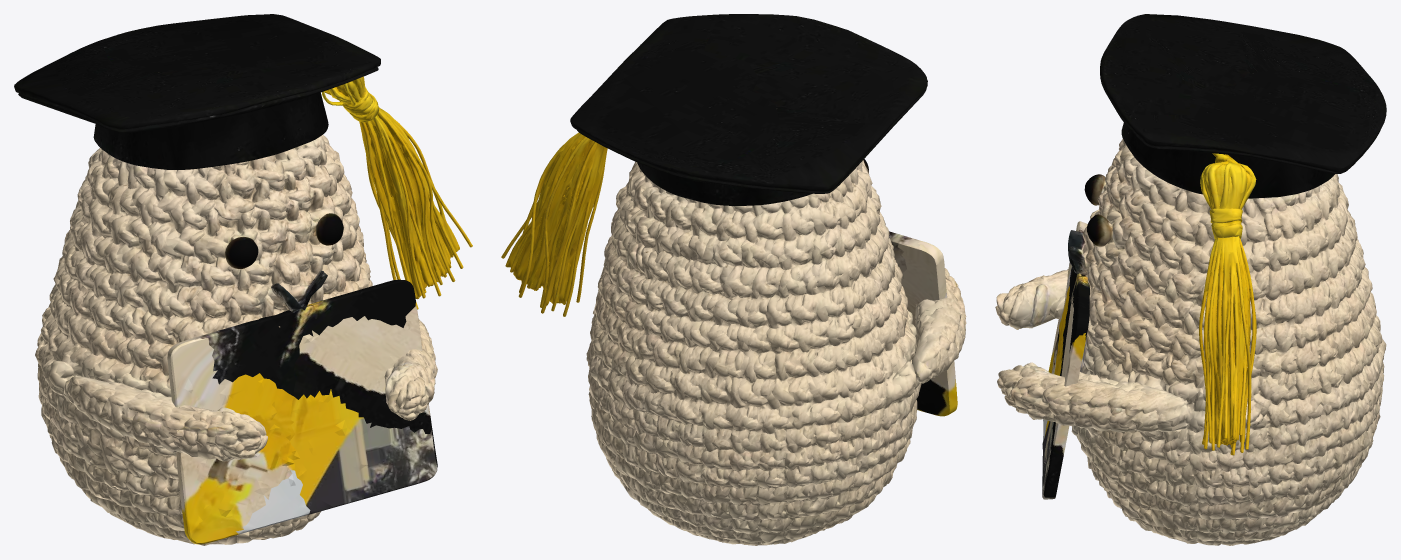
Rendered from grad.glb.
The picture shows the model from 3 angles, left to right: view 1: azimuth 30°, elevation 25°; view 2: azimuth 150°, elevation 25°; view 3: azimuth 270°, elevation 25°; orthographic projection. The views are drawn at different scales.
Parts seen in each view (by area): view 1: body, trim (×2), card, handL, handR, eyeL, eyeR; view 2: body, trim (×2), card, handL; view 3: body, trim (×2), handR, card, handL, eyeR, eyeL.
Part boxes in pixels (x1,y1,x2,y2): body: [35, 135, 372, 545]; trim (×2): [14, 14, 472, 309]; card: [167, 279, 437, 544]; handL: [64, 375, 267, 461]; handR: [384, 319, 437, 420]; eyeL: [225, 237, 258, 268]; eyeR: [310, 213, 343, 245]; body: [586, 160, 921, 545]; trim (×2): [501, 14, 927, 316]; card: [889, 231, 957, 416]; handL: [912, 268, 966, 383]; body: [1068, 139, 1386, 545]; trim (×2): [1100, 14, 1386, 455]; handR: [997, 362, 1190, 432]; card: [1042, 221, 1089, 499]; handL: [995, 269, 1068, 329]; eyeR: [1087, 214, 1113, 246]; eyeL: [1084, 174, 1105, 205].
Size of the model in its own units: 1.79 by 1.89 by 1.49.
Materials: 8 (8 with a texture image).
